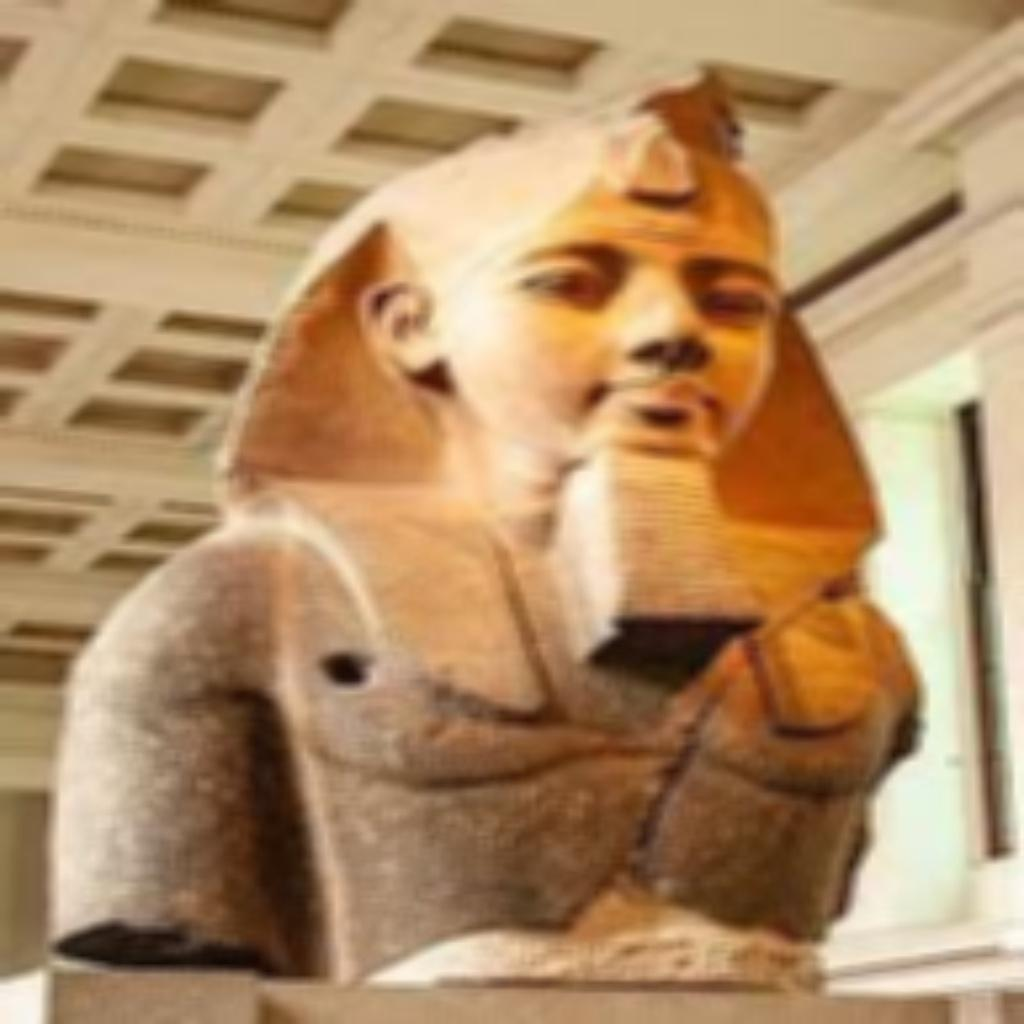bust of Ramesses II: (42, 62, 928, 992)
